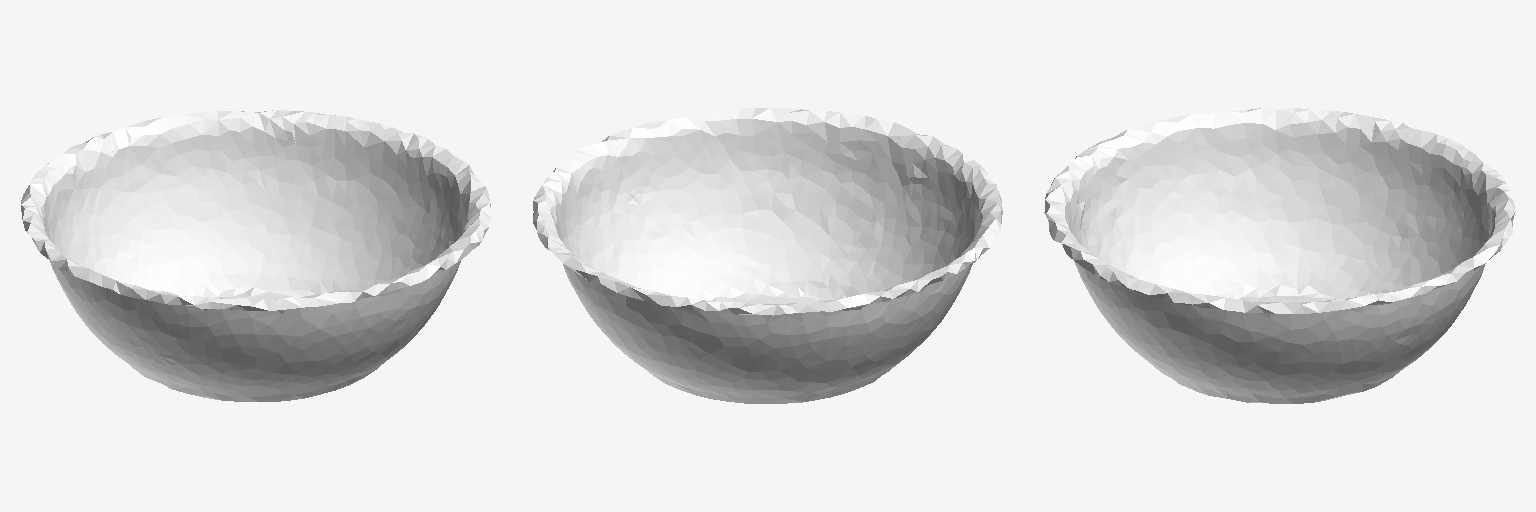
The robot description file, URDF, robot "bowl":
<?xml version="1.0" ?>
<robot name="bowl">
  <link name="Link">

    <inertial>
      <origin rpy="0 0 0" xyz="-0.014354 -0.045816 0.026129"/>
       <mass value="0.0384"/>


       <inertia ixx="7.504e-8" ixy="1.02e-9" ixz="-0.00000"
                iyy="7.319e-8" iyz="1.07e-9"
                izz="1.2517e-7"/>
    </inertial>
    <visual>
      <origin rpy="0 0 0" xyz="0 0 0"/>
      <geometry>
            <mesh filename="textured2.obj" scale="1 1 1"/>
      </geometry>
        <material name="framemat0">
        <color rgba="1 1 1 1"/>
      </material>
    </visual>

    <collision>
      <geometry>
	 	 <mesh filename="textured2.obj" scale="1 1 1"/>
      </geometry>
    </collision>
  </link>
</robot>

--- Render facts (derived) ---
Views: 3 orthographic renders of the robot side by side, from view 1: azimuth 30°, elevation 25°; view 2: azimuth 150°, elevation 25°; view 3: azimuth 270°, elevation 25°.
Model bowl with 1 links and 0 joints (none), rooted at Link, posed every joint at zero.
Links seen in each view (by area): view 1: Link; view 2: Link; view 3: Link.
Boxes of the visible links, box(x1,y1,x2,y2) form: Link: box(21, 110, 490, 401); Link: box(533, 108, 1002, 403); Link: box(1044, 108, 1515, 403).
Bounding box of the posed robot: 0.1616 × 0.1602 × 0.0553 m (x, y, z).
Meshes: 1 distinct files referenced, 1 mesh visuals loaded (1 OBJ).